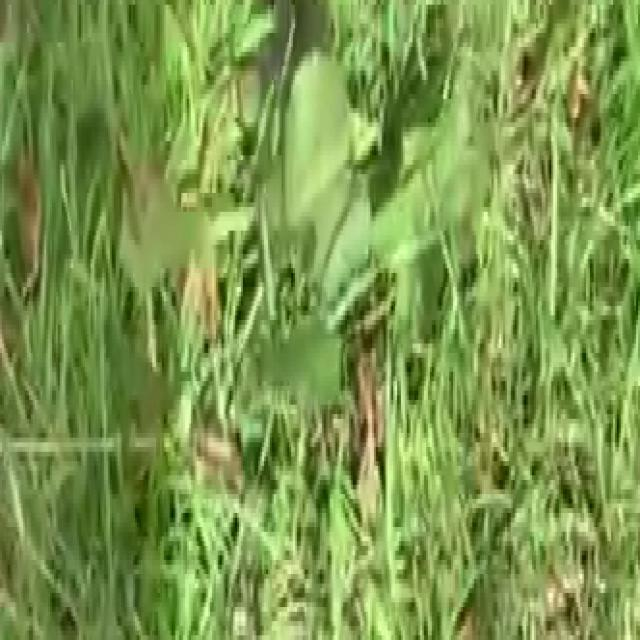organic waste: (213, 0, 524, 475)
